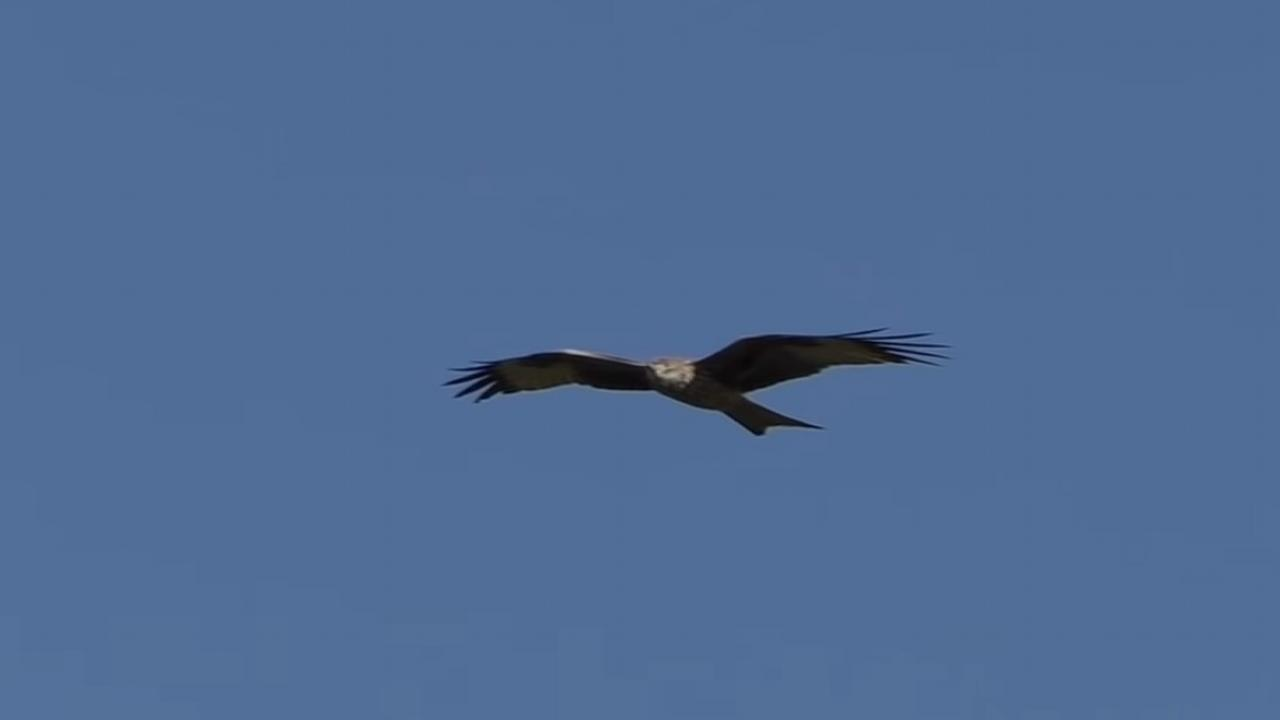Bird: (426, 317, 974, 451)
